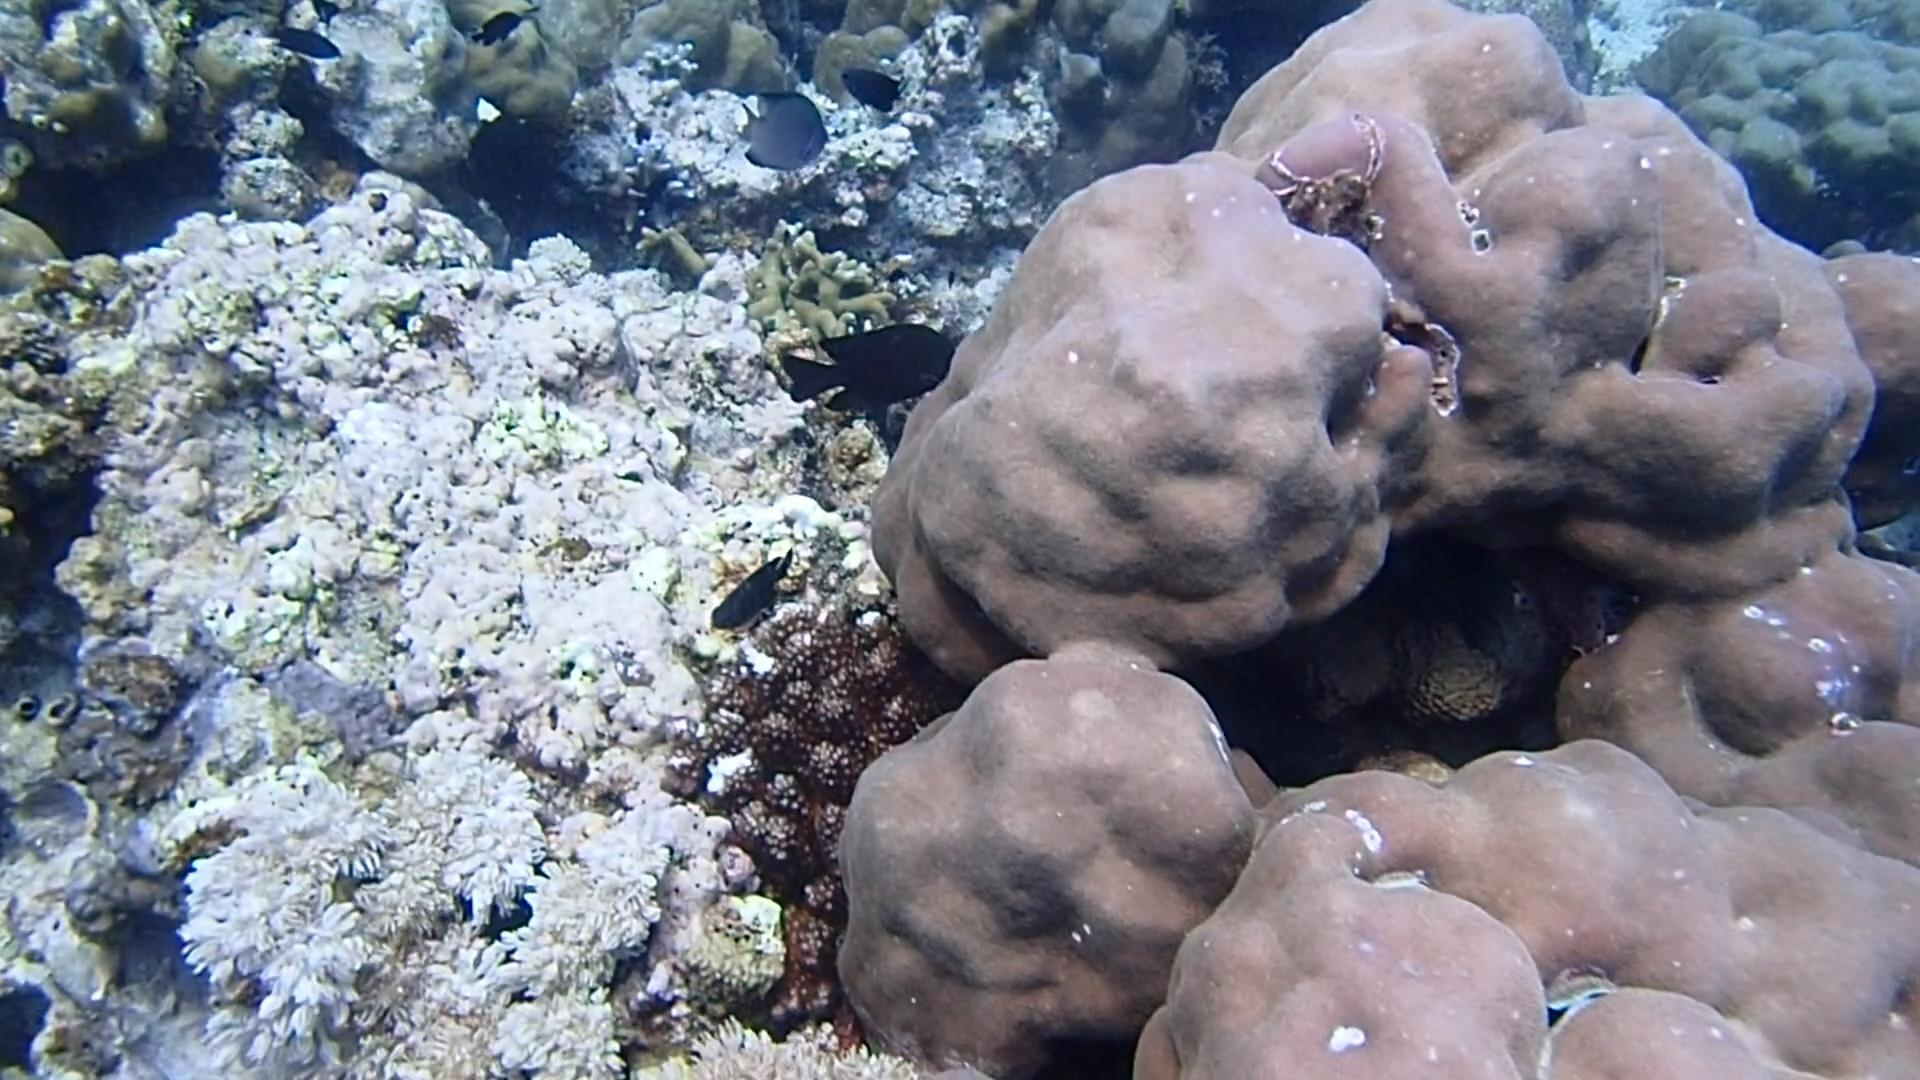Dark Fish: (773, 316, 969, 427), (704, 542, 794, 642), (835, 58, 910, 123), (262, 20, 348, 73), (462, 4, 527, 53)
Light Fish - Dark Fin: (727, 83, 841, 178)
